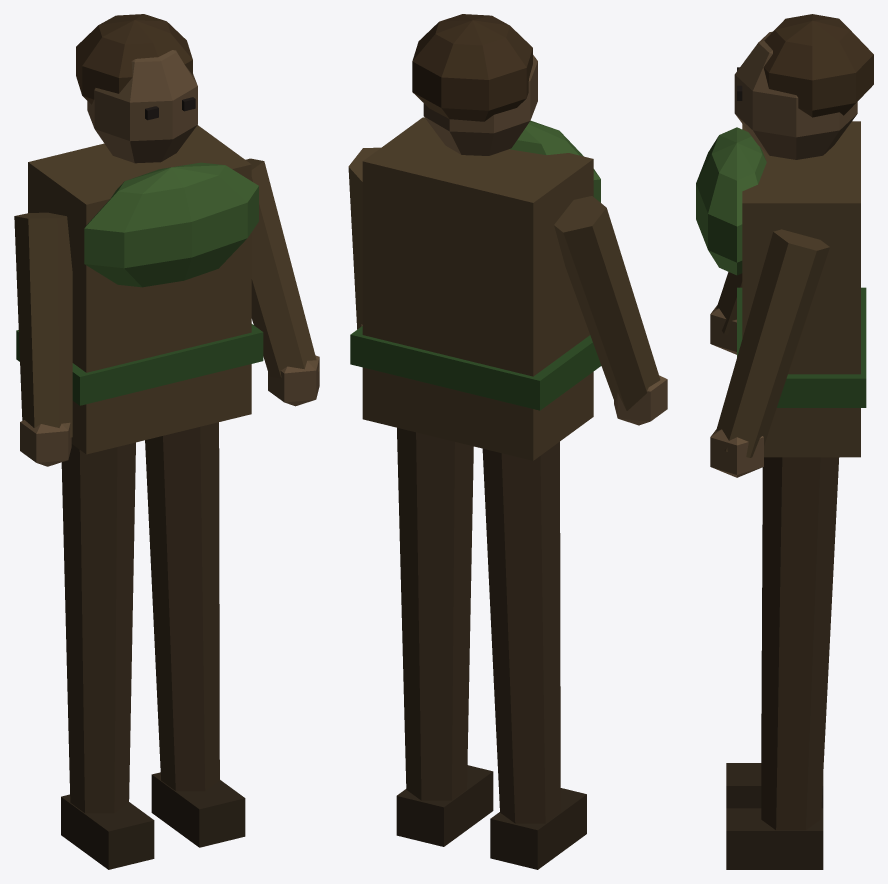
The model's file is moorleiche.glb.
3 renders of one model, left to right at view 1: azimuth 30°, elevation 25°; view 2: azimuth 150°, elevation 25°; view 3: azimuth 270°, elevation 25°, orthographic. The views are drawn at different scales.
Size of the model in its own units: 0.6348 by 1.67 by 0.3302.
1 material, 1 textured.
